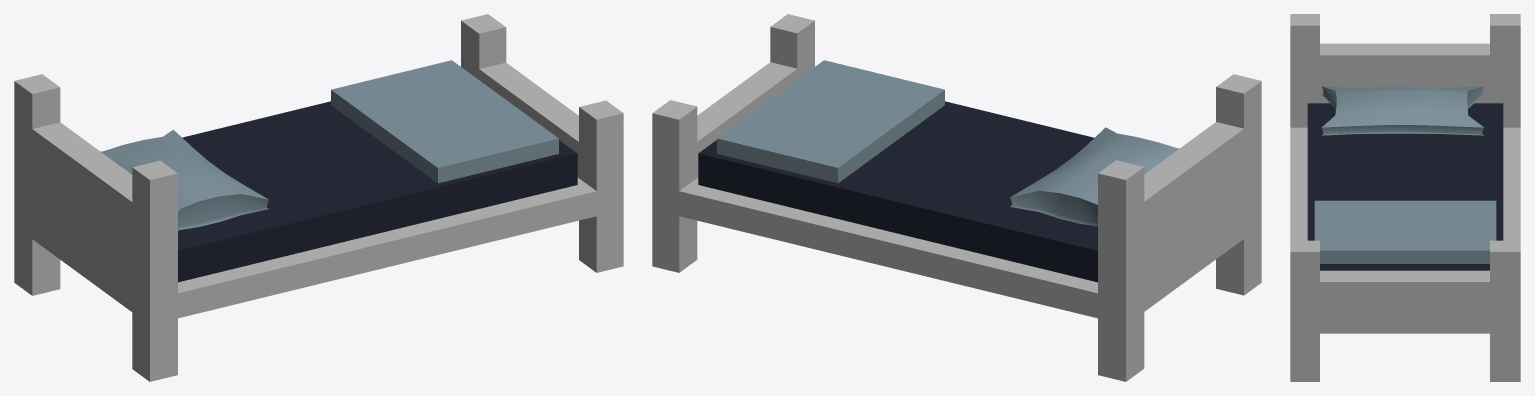
Rendered from bed.fbx.
The picture shows the model from 3 angles, left to right: view 1: azimuth 30°, elevation 25°; view 2: azimuth 150°, elevation 25°; view 3: azimuth 270°, elevation 25°; orthographic projection. The views are drawn at different scales.
Visible parts, largest first — view 1: Bedframe, Mattress, FoldedBlanket, Pillow; view 2: Bedframe, Mattress, FoldedBlanket, Pillow; view 3: Bedframe, Mattress, FoldedBlanket, Pillow.
Part boxes in pixels (x1,y1,x2,y2): Bedframe: [14, 14, 623, 381]; Mattress: [178, 101, 577, 282]; FoldedBlanket: [331, 60, 558, 183]; Pillow: [101, 129, 268, 230]; Bedframe: [652, 14, 1261, 381]; Mattress: [698, 101, 1097, 282]; FoldedBlanket: [717, 60, 944, 183]; Pillow: [1010, 127, 1179, 226]; Bedframe: [1290, 14, 1520, 381]; Mattress: [1307, 103, 1503, 270]; FoldedBlanket: [1314, 200, 1496, 263]; Pillow: [1321, 86, 1484, 135].
Size of the model in its own units: 1.97 by 0.8023 by 0.9772.
